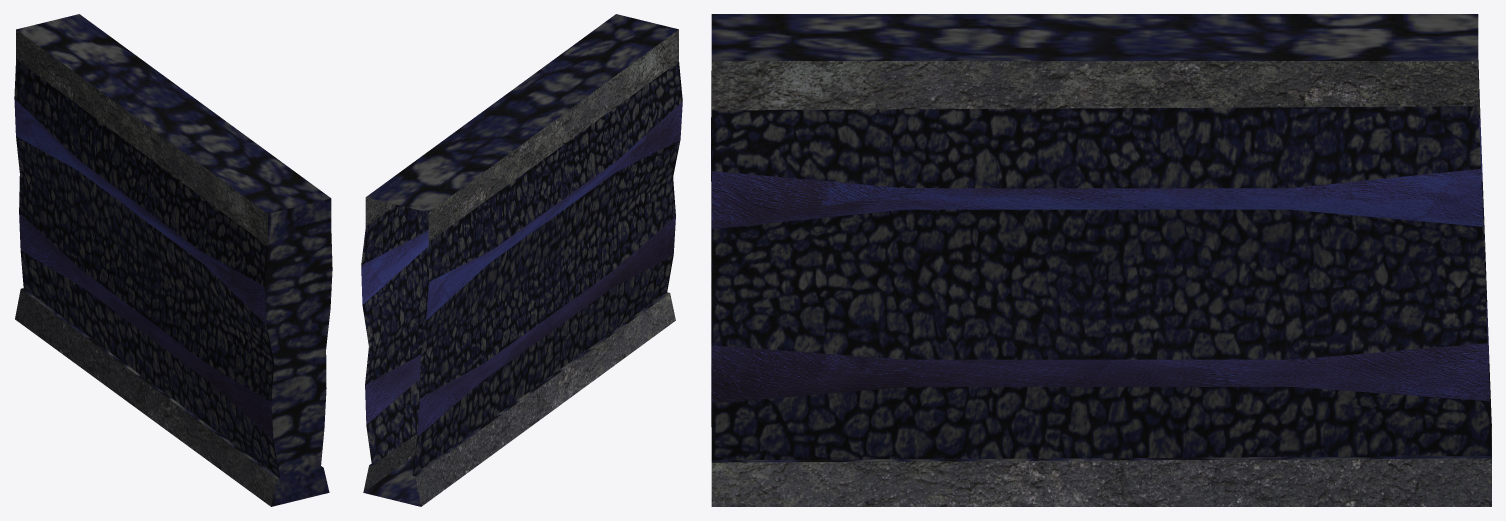
Rendered from Wall section.fbx.
3 renders of one model, left to right at view 1: azimuth 30°, elevation 25°; view 2: azimuth 150°, elevation 25°; view 3: azimuth 270°, elevation 25°, orthographic. The views are drawn at different scales.
Visible parts, largest first — view 1: polySurface44; view 2: polySurface44; view 3: polySurface44.
Boxes of the visible parts, box(x1,y1,x2,y2) form: polySurface44: box(14, 14, 332, 506); polySurface44: box(361, 14, 682, 506); polySurface44: box(711, 14, 1491, 506).
Size of the model in its own units: 0.2951 by 1.17 by 1.85.
Materials: 3 (3 with a texture image).
